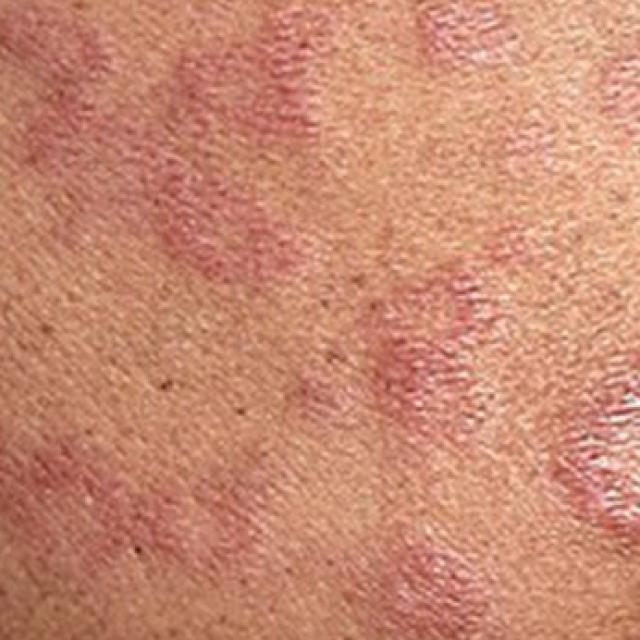Leprosy: (0, 0, 348, 274), (296, 214, 546, 440), (0, 416, 302, 584), (546, 346, 640, 570), (320, 520, 492, 640), (409, 0, 531, 76), (588, 20, 640, 164)
